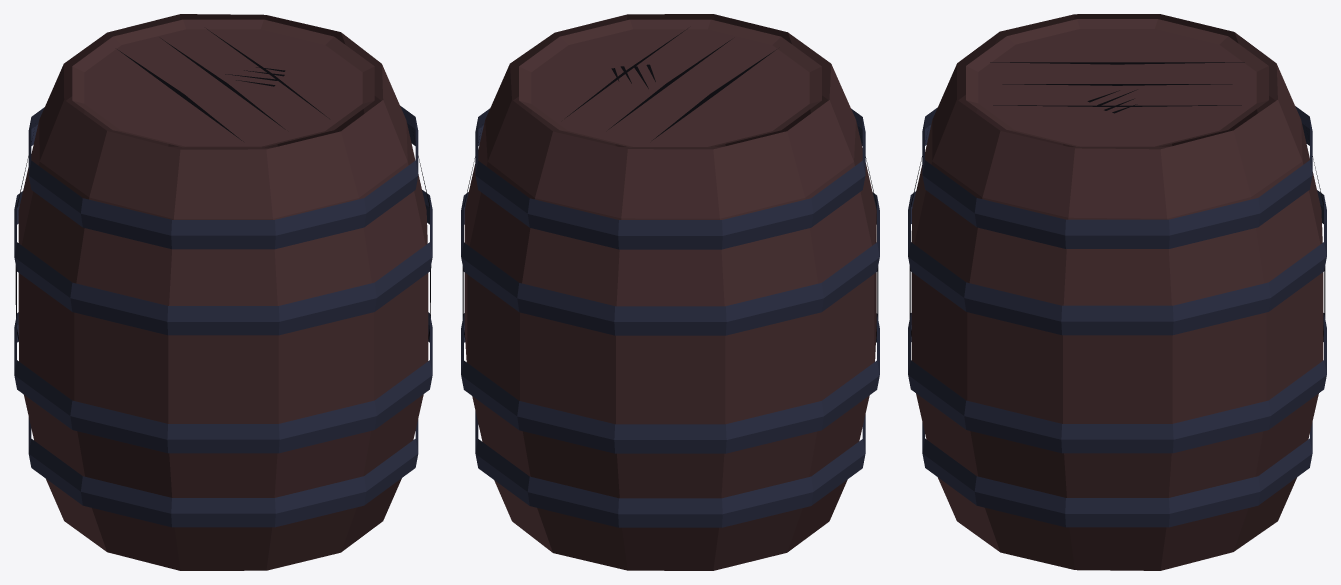
File: barrel_large.glb
The picture shows the model from 3 angles, left to right: view 1: azimuth 30°, elevation 25°; view 2: azimuth 150°, elevation 25°; view 3: azimuth 270°, elevation 25°; orthographic projection.
Visible parts, largest first — view 1: barrel_large.001; view 2: barrel_large.001; view 3: barrel_large.001.
Part boxes in pixels (bbox=[...]): barrel_large.001: bbox=[14, 14, 432, 570]; barrel_large.001: bbox=[461, 14, 879, 570]; barrel_large.001: bbox=[908, 14, 1326, 570].
Size of the model in its own units: 1.8 by 2 by 1.8.
